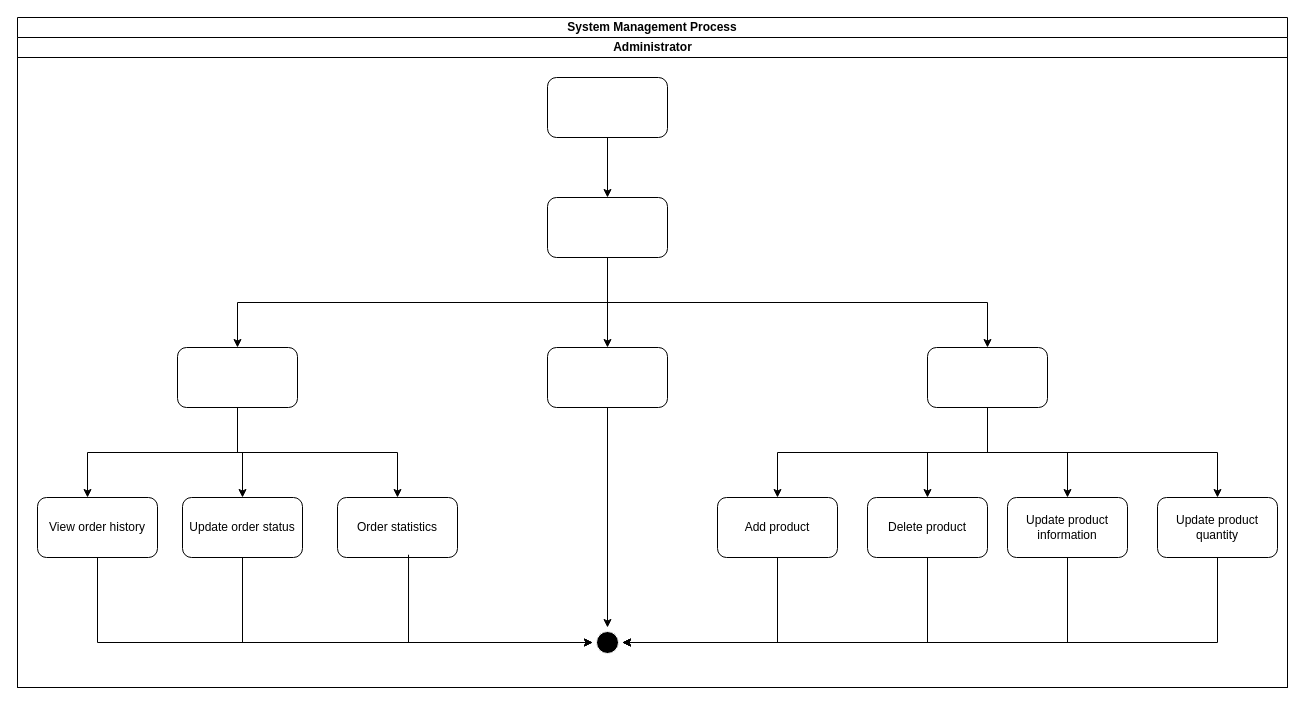
The diagram is 1305 pixels wide and 705 high, and some of its shapes have lost their labels. The shapes that lost their labels are listed below. From the top down, each one's centre as x and y in pixels, then its label:
(607,107): Administrator logs into admin account
(607,227): Administrator performs system management operations
(237,377): Order Management
(607,377): Manage customer account information
(987,377): Product Management
